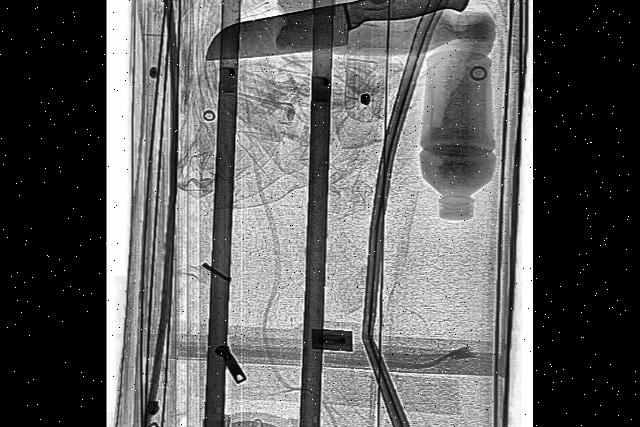Knife: (205, 0, 474, 73)
